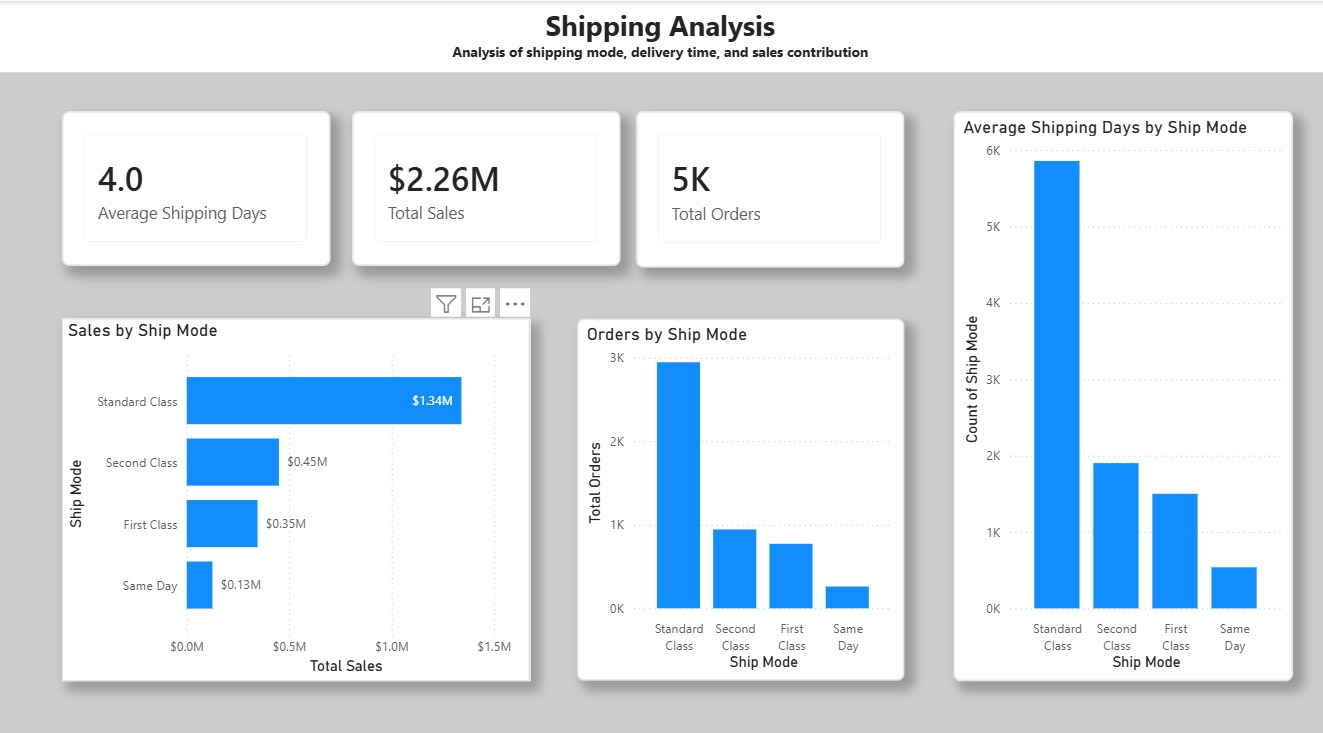

What the dashboard file says about the page in this screenshot:
{"tool":"powerbi","page":{"name":"Shipping Analysis","canvas":[1280,720],"ordinal":4},"visuals":[{"type":"textbox","box":[0,0,1280.3,68.6],"z":0},{"type":"cardVisual","fields":{"Data":["Orders.Average Shipping Days"]},"box":[63.1,105.7,259.3,149.6],"z":1000},{"type":"cardVisual","fields":{"Data":["Orders.Total Orders"]},"box":[616.1,105.7,259.3,150.9],"z":2000},{"type":"cardVisual","fields":{"Data":["Orders.Total Sales"]},"box":[343.1,105.7,259.3,149.6],"z":3000},{"type":"clusteredBarChart","title":"Sales by Ship Mode","fields":{"Category":["Orders.Ship Mode"],"Y":["Orders.Total Sales"]},"box":[63.1,306,451.5,349.9],"z":4000},{"type":"columnChart","title":"Orders by Ship Mode","fields":{"Y":["Orders.Total Orders"],"Category":["Orders.Ship Mode"]},"box":[559.9,306,315.6,349.9],"z":5000},{"type":"columnChart","title":"Average Shipping Days by Ship Mode","fields":{"Y":["CountNonNull(Orders.Ship Mode)"],"Category":["Orders.Ship Mode"]},"box":[923.5,105.7,328,550.3],"z":6000}]}

Visuals, with their boxes in screenshot pixels (x1, y1, x2, y2), scaled from the page's 1280x720 canvas onto the 1323x733 screenshot:
textbox: 0:0:1322:70
cardVisual - Orders.Average Shipping Days: 65:108:333:260
cardVisual - Orders.Total Orders: 637:108:905:261
cardVisual - Orders.Total Sales: 355:108:623:260
"Sales by Ship Mode" clusteredBarChart: 65:312:532:668
"Orders by Ship Mode" columnChart: 579:312:905:668
"Average Shipping Days by Ship Mode" columnChart: 955:108:1294:668
